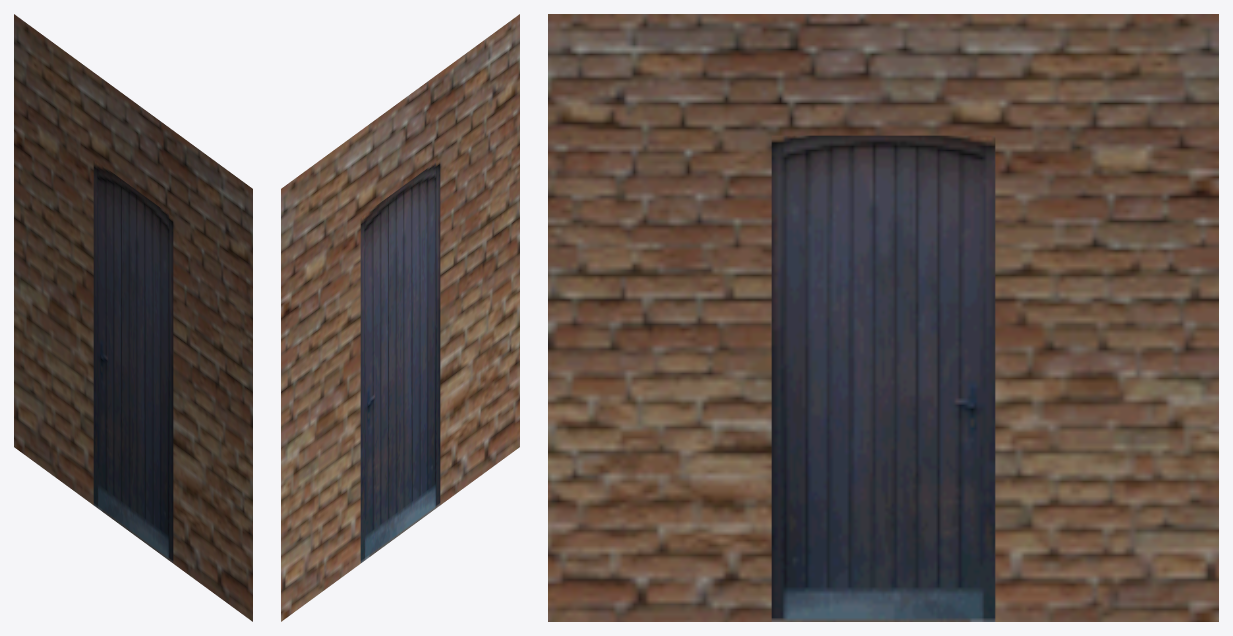
File: Urban_BrickWallDoor_Model.fbx
3 renders of one model, left to right at view 1: azimuth 30°, elevation 25°; view 2: azimuth 150°, elevation 25°; view 3: azimuth 270°, elevation 25°, orthographic. The views are drawn at different scales.
Parts seen in each view (by area): view 1: Urban_BrickWallDoor_Mesh; view 2: Urban_BrickWallDoor_Mesh; view 3: Urban_BrickWallDoor_Mesh.
Part boxes in pixels (box(x1,y1,x2,y2)): Urban_BrickWallDoor_Mesh: box(14, 14, 252, 621); Urban_BrickWallDoor_Mesh: box(281, 14, 519, 621); Urban_BrickWallDoor_Mesh: box(548, 14, 1218, 621).
Bounding box in the file's own units: 0 × 2.1 × 2.1.
